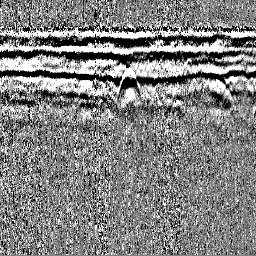cavity: (115, 65, 141, 100)
